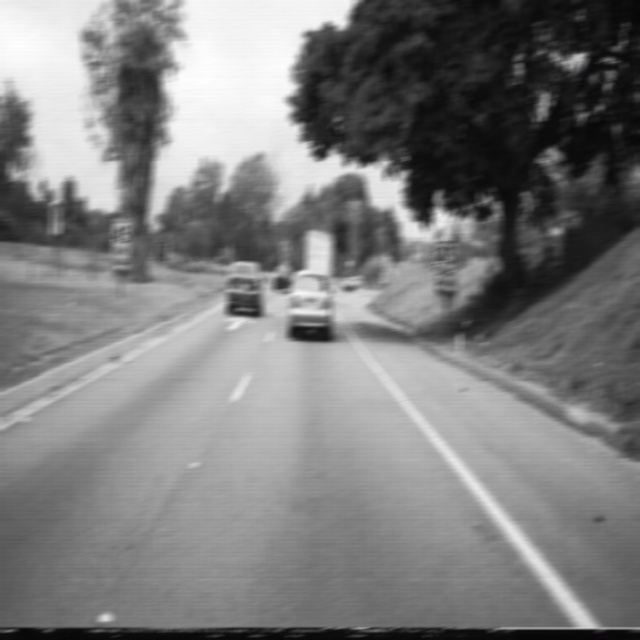zoneAhead45: (110, 219, 132, 271), (437, 240, 458, 293)
